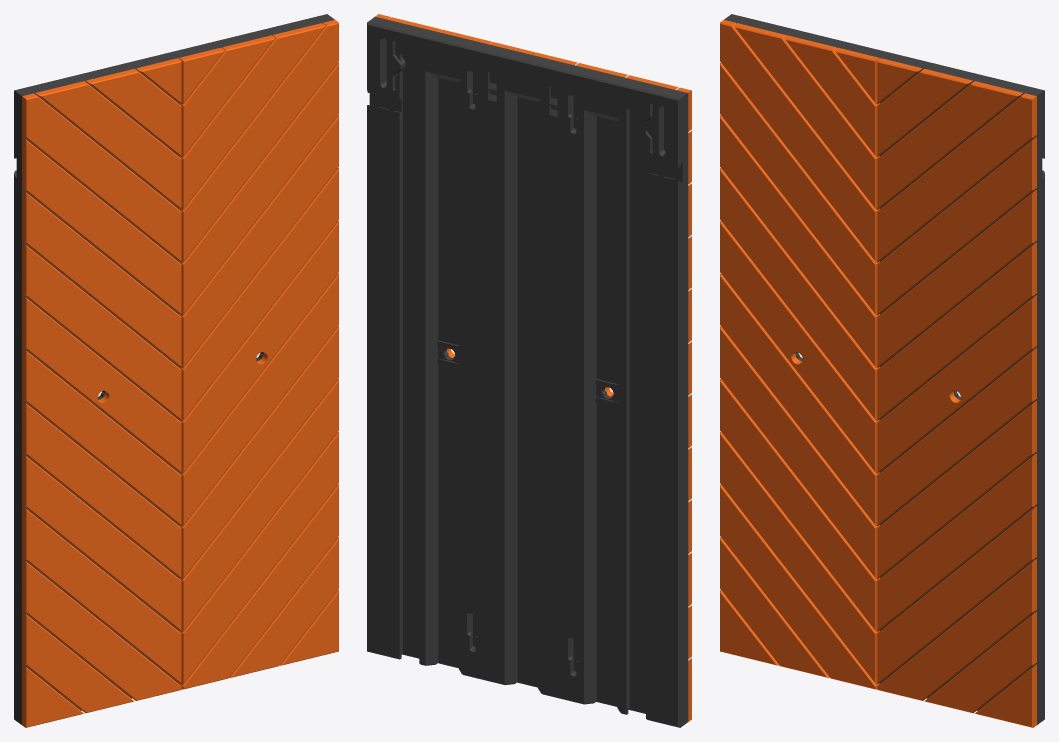
File: Faceplate_Chevron_1W-3H.lib.glb
The picture shows the model from 3 angles, left to right: view 1: azimuth 30°, elevation 25°; view 2: azimuth 150°, elevation 25°; view 3: azimuth 330°, elevation 25°; orthographic projection.
Parts seen in each view (by area): view 1: Faceplate_Chevron_1W-3H; view 2: Faceplate_Chevron_1W-3H; view 3: Faceplate_Chevron_1W-3H.
Boxes of the visible parts, box(x1,y1,x2,y2) form: Faceplate_Chevron_1W-3H: box(14, 14, 338, 727); Faceplate_Chevron_1W-3H: box(367, 14, 691, 727); Faceplate_Chevron_1W-3H: box(720, 14, 1044, 727).
Size of the model in its own units: 87 by 167 by 6.2.
